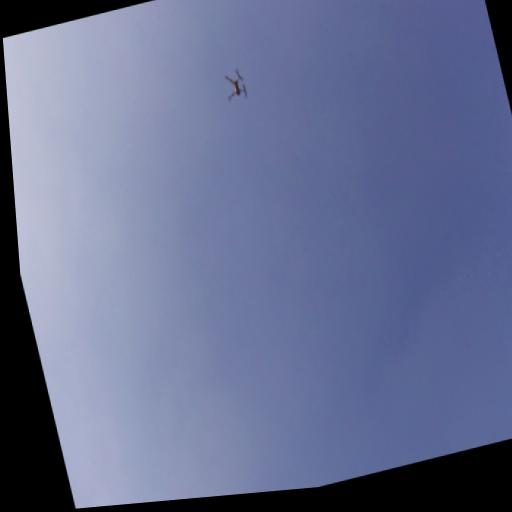drones: (218, 64, 254, 110)
